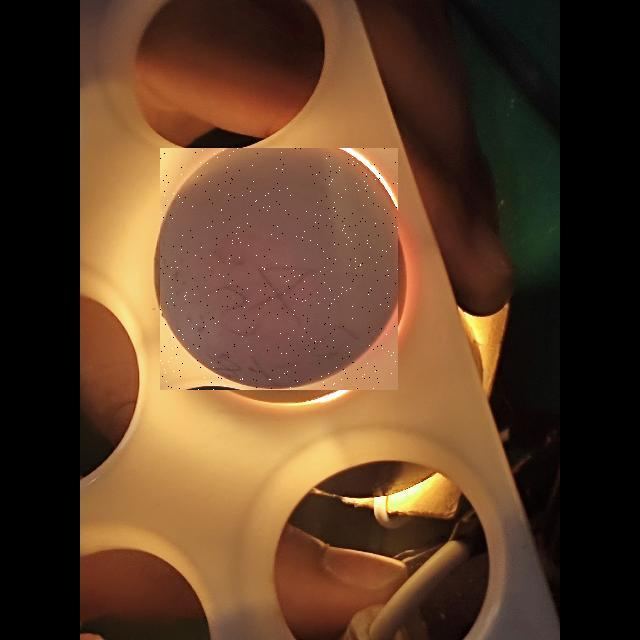Fertile: (160, 148, 398, 390)
